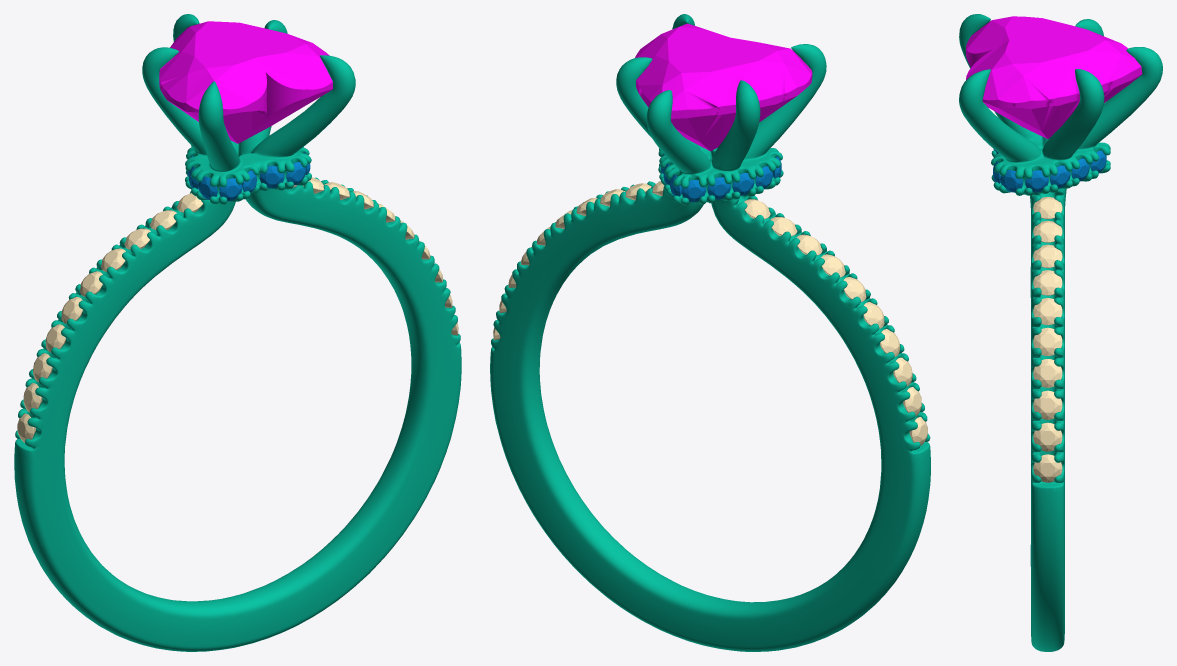
The model's file is BE1D1320_HT_200ct_RENDER.glb.
The picture shows the model from 3 angles, left to right: view 1: azimuth 30°, elevation 25°; view 2: azimuth 150°, elevation 25°; view 3: azimuth 270°, elevation 25°; orthographic projection. The views are drawn at different scales.
Visible parts, largest first — view 1: Metal 01, CS_Diamond_Heart; view 2: Metal 01, CS_Diamond_Heart; view 3: Metal 01, CS_Diamond_Heart, Diamond_Round_Gem_SH.011, Diamond_Round_Gem_SH.013, Diamond_Round_Gem_SH.012, Diamond_Round_Gem_SH.010, Diamond_Round_Gem_SH.014, Diamond_Round_Gem_SH.015, Diamond_Round_Gem_SH.016, Diamond_Round_Gem_SH.017, Diamond_Round_Gem_SH.019, Diamond_Round_Gem_SH.018 (+3 smaller).
Boxes of the visible parts, x1=… form: Metal 01: x1=14, y1=14, x2=461, y2=651; CS_Diamond_Heart: x1=159, y1=21, x2=332, y2=143; Metal 01: x1=490, y1=14, x2=930, y2=651; CS_Diamond_Heart: x1=635, y1=23, x2=812, y2=151; Metal 01: x1=959, y1=14, x2=1162, y2=651; CS_Diamond_Heart: x1=966, y1=16, x2=1142, y2=138; Diamond_Round_Gem_SH.011: x1=1033, y1=422, x2=1062, y2=451; Diamond_Round_Gem_SH.013: x1=1033, y1=359, x2=1062, y2=387; Diamond_Round_Gem_SH.012: x1=1033, y1=390, x2=1062, y2=419; Diamond_Round_Gem_SH.010: x1=1033, y1=454, x2=1062, y2=482; Diamond_Round_Gem_SH.014: x1=1033, y1=327, x2=1062, y2=355; Diamond_Round_Gem_SH.015: x1=1033, y1=298, x2=1062, y2=325; Diamond_Round_Gem_SH.016: x1=1033, y1=270, x2=1062, y2=295; Diamond_Round_Gem_SH.017: x1=1033, y1=244, x2=1062, y2=268; Diamond_Round_Gem_SH.019: x1=1033, y1=197, x2=1062, y2=219; Diamond_Round_Gem_SH.018: x1=1033, y1=220, x2=1062, y2=242.
Size of the model in its own units: 20.5 by 26.74 by 8.4.
